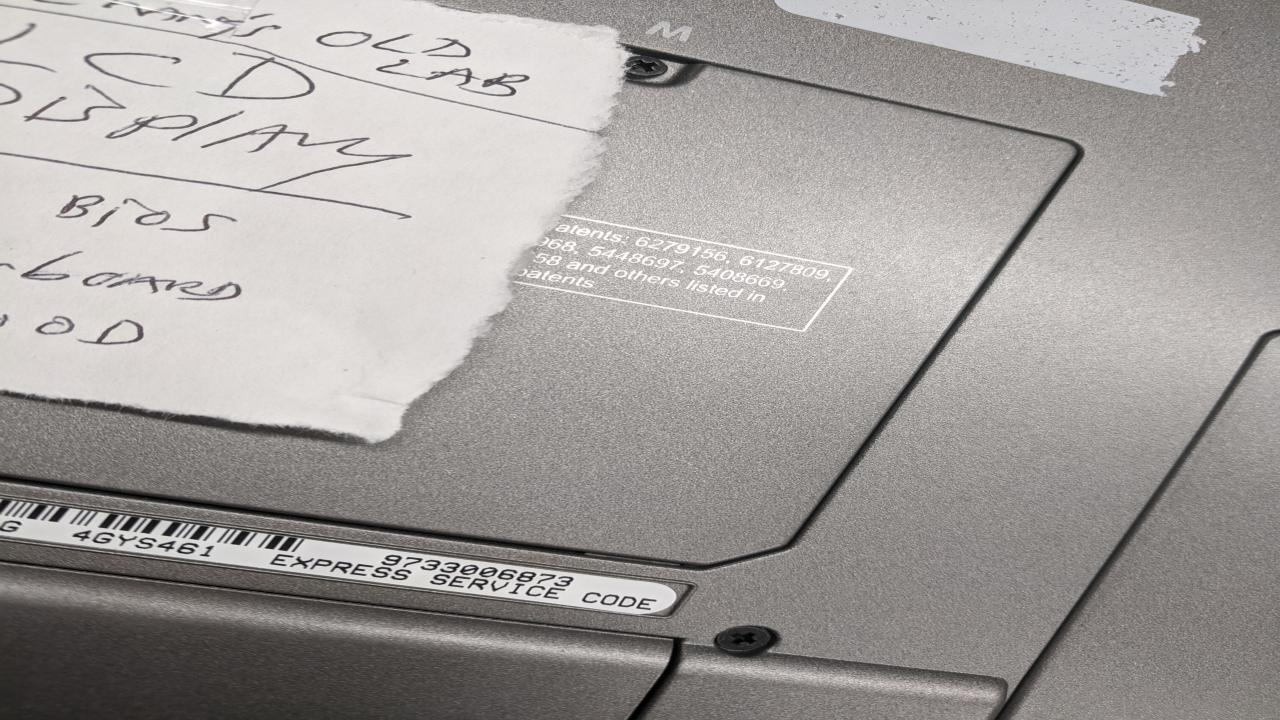CRS: (709, 622, 793, 656), (623, 53, 677, 79)
